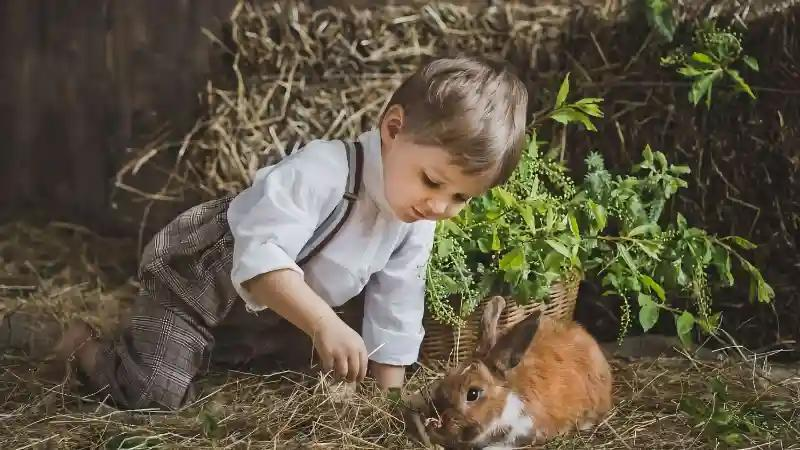child: (1, 46, 527, 404)
